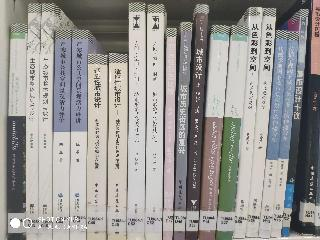book-spine: (217, 26, 248, 240), (199, 25, 229, 240), (234, 8, 262, 237), (247, 9, 275, 237), (282, 9, 308, 236), (259, 31, 287, 237), (271, 32, 298, 237), (186, 4, 207, 240), (301, 1, 320, 235), (146, 4, 163, 240), (128, 4, 144, 239), (9, 24, 26, 239), (26, 4, 41, 239), (88, 55, 107, 240), (174, 22, 190, 239), (54, 30, 70, 239), (109, 55, 126, 240), (40, 4, 53, 240), (72, 30, 86, 239), (163, 28, 175, 240)
